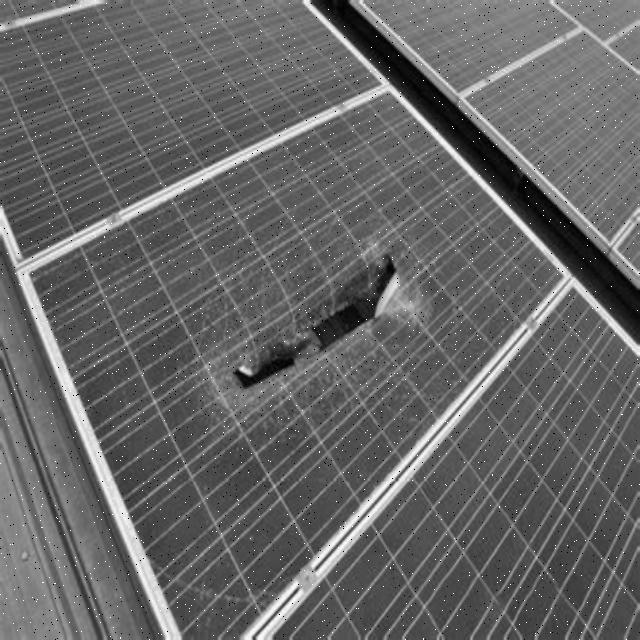physical damage: (202, 210, 451, 439)
